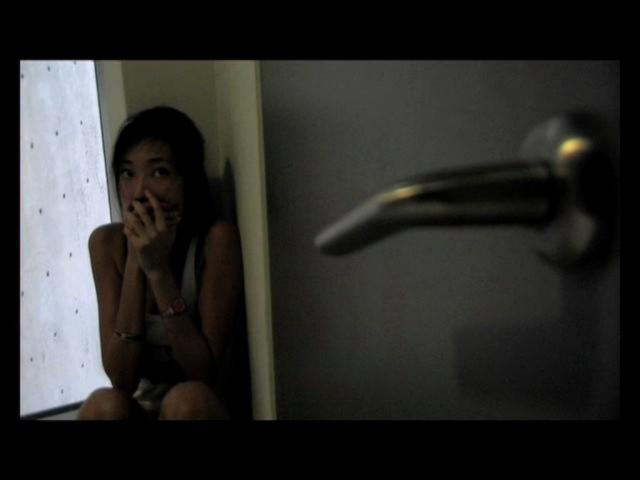Door-handle: (312, 112, 608, 259)
